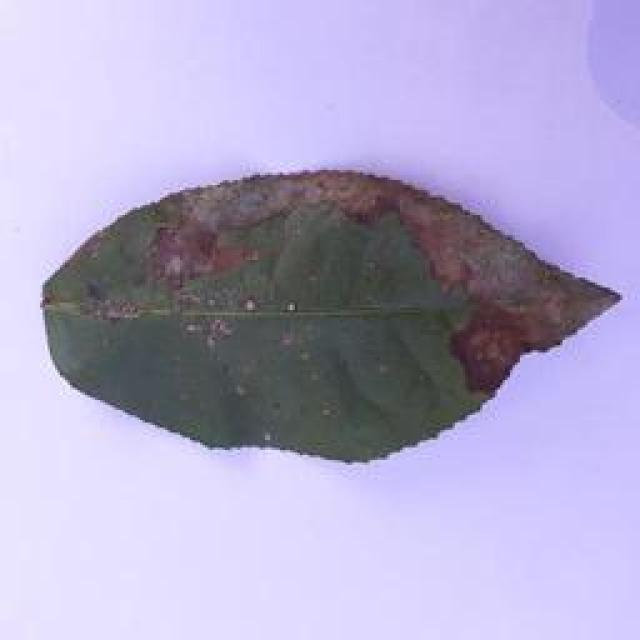Gray Blight: (27, 171, 640, 478)
